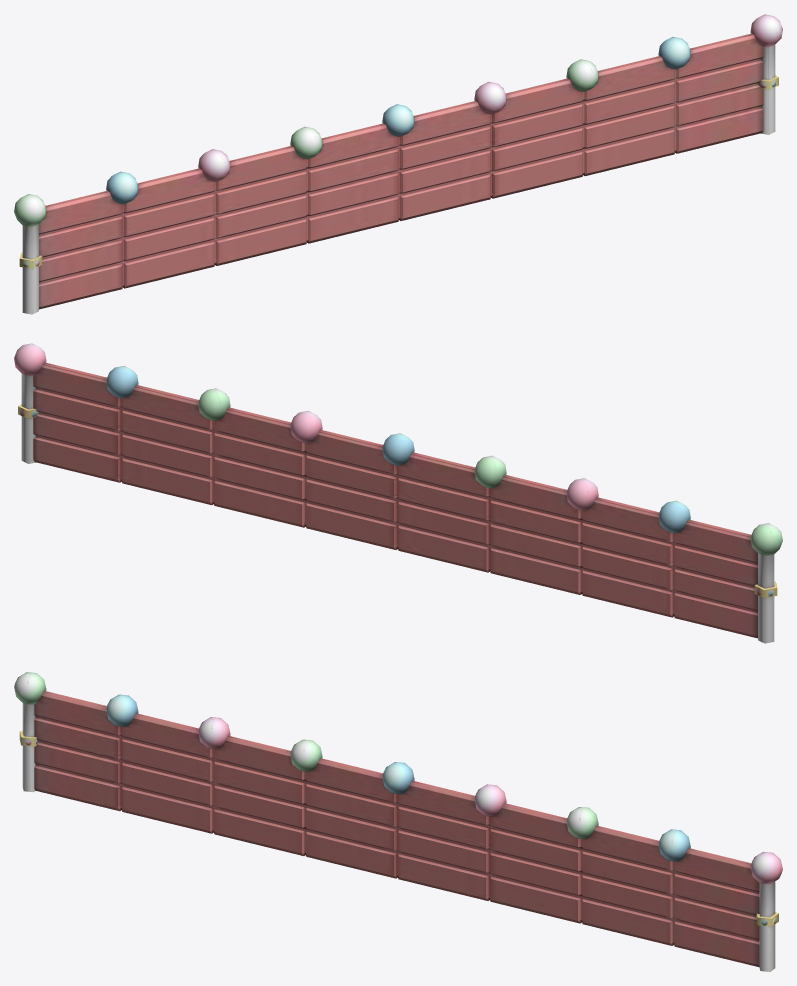
Rendered from 8869dd7a-1cdd-4312-b991-8a87b66cc448.glb.
3 renders of one model, top to bottom at view 1: azimuth 30°, elevation 25°; view 2: azimuth 150°, elevation 25°; view 3: azimuth 330°, elevation 25°, orthographic.
Visible parts, largest first — view 1: structure2; view 2: structure2; view 3: structure2.
Part boxes in pixels (x1,y1,x2,y2): structure2: (14, 14, 782, 314); structure2: (14, 343, 782, 643); structure2: (14, 672, 782, 971).
Size of what is drawn, in the model's own units: 16 by 2.31 by 0.6033.
Materials: 1 (1 with a texture image).
